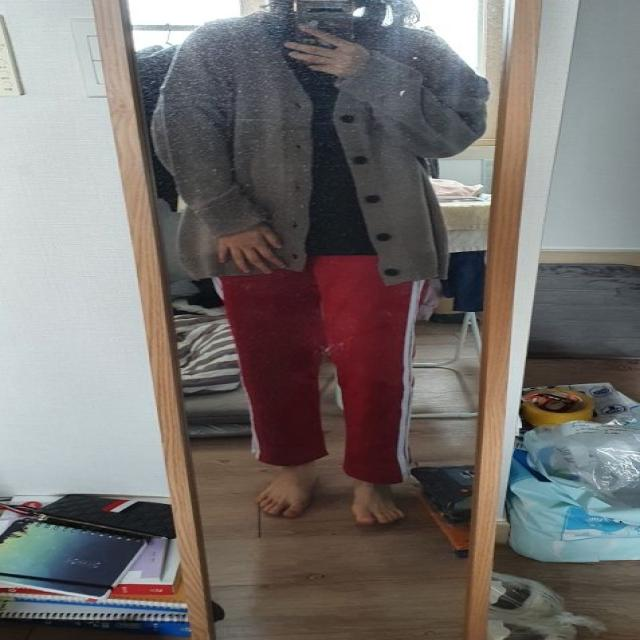cardigan: (151, 9, 488, 287)
trainingpants: (206, 246, 428, 488)
